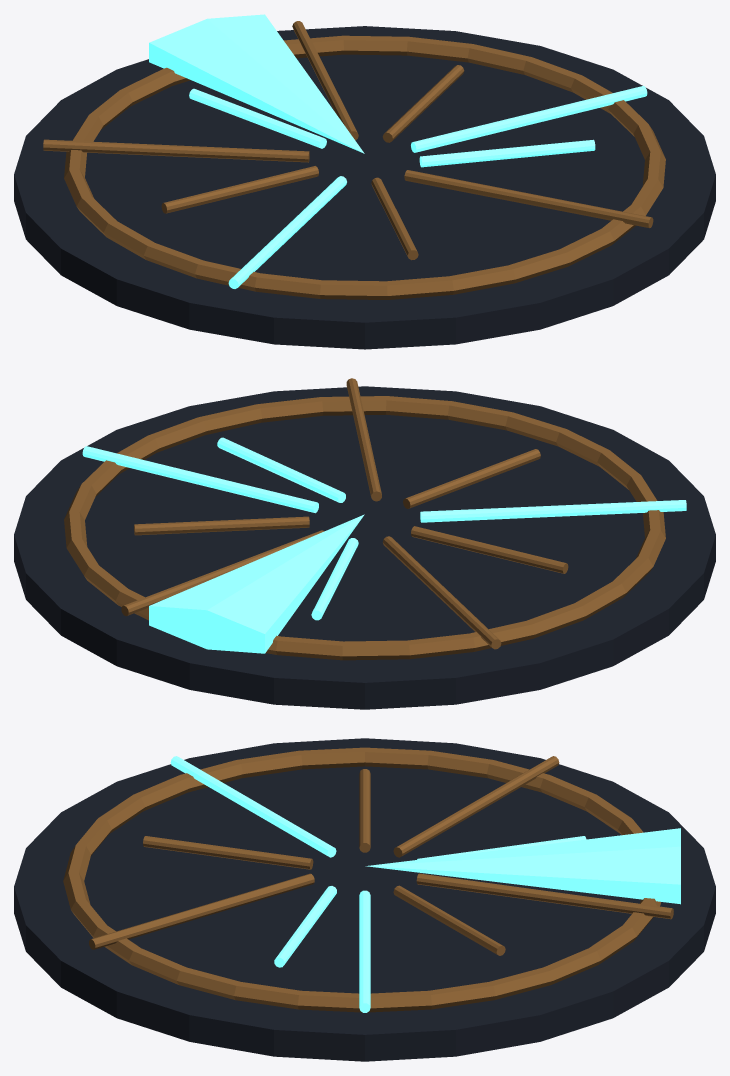
File: runtime.glb
The picture shows the model from 3 angles, top to bottom: view 1: azimuth 30°, elevation 25°; view 2: azimuth 150°, elevation 25°; view 3: azimuth 270°, elevation 25°; orthographic projection.
Visible parts, largest first — view 1: aetherion-astronomical-medallion-v07_field_nocol, aetherion-astronomical-medallion-v07_outer_meridian_nocol, aetherion-astronomical-medallion-v07_north_pointer_nocol, aetherion-astronomical-medallion-v07_bearing_04_nocol, aetherion-astronomical-medallion-v07_bearing_08_nocol, aetherion-astronomical-medallion-v07_bearing_00_nocol, aetherion-astronomical-medallion-v07_bearing_09_nocol, aetherion-astronomical-medallion-v07_bearing_05_nocol, aetherion-astronomical-medallion-v07_bearing_06_nocol, aetherion-astronomical-medallion-v07_bearing_03_nocol, aetherion-astronomical-medallion-v07_bearing_02_nocol, aetherion-astronomical-medallion-v07_bearing_01_nocol (+1 smaller); view 2: aetherion-astronomical-medallion-v07_field_nocol, aetherion-astronomical-medallion-v07_outer_meridian_nocol, aetherion-astronomical-medallion-v07_north_pointer_nocol, aetherion-astronomical-medallion-v07_bearing_06_nocol, aetherion-astronomical-medallion-v07_bearing_00_nocol, aetherion-astronomical-medallion-v07_bearing_01_nocol, aetherion-astronomical-medallion-v07_bearing_05_nocol, aetherion-astronomical-medallion-v07_bearing_04_nocol, aetherion-astronomical-medallion-v07_bearing_07_nocol, aetherion-astronomical-medallion-v07_bearing_09_nocol, aetherion-astronomical-medallion-v07_bearing_02_nocol, aetherion-astronomical-medallion-v07_bearing_08_nocol (+1 smaller); view 3: aetherion-astronomical-medallion-v07_field_nocol, aetherion-astronomical-medallion-v07_outer_meridian_nocol, aetherion-astronomical-medallion-v07_north_pointer_nocol, aetherion-astronomical-medallion-v07_bearing_02_nocol, aetherion-astronomical-medallion-v07_bearing_08_nocol, aetherion-astronomical-medallion-v07_bearing_04_nocol, aetherion-astronomical-medallion-v07_bearing_06_nocol, aetherion-astronomical-medallion-v07_bearing_07_nocol, aetherion-astronomical-medallion-v07_bearing_00_nocol, aetherion-astronomical-medallion-v07_bearing_01_nocol, aetherion-astronomical-medallion-v07_bearing_09_nocol, aetherion-astronomical-medallion-v07_bearing_05_nocol (+1 smaller).
Boxes of the visible parts, bbox=[...] form: aetherion-astronomical-medallion-v07_field_nocol: bbox=[14, 26, 715, 349]; aetherion-astronomical-medallion-v07_outer_meridian_nocol: bbox=[64, 35, 665, 299]; aetherion-astronomical-medallion-v07_north_pointer_nocol: bbox=[149, 14, 364, 153]; aetherion-astronomical-medallion-v07_bearing_04_nocol: bbox=[43, 139, 309, 162]; aetherion-astronomical-medallion-v07_bearing_08_nocol: bbox=[404, 170, 653, 228]; aetherion-astronomical-medallion-v07_bearing_00_nocol: bbox=[411, 85, 647, 152]; aetherion-astronomical-medallion-v07_bearing_09_nocol: bbox=[419, 139, 595, 167]; aetherion-astronomical-medallion-v07_bearing_05_nocol: bbox=[161, 166, 318, 213]; aetherion-astronomical-medallion-v07_bearing_06_nocol: bbox=[228, 176, 346, 288]; aetherion-astronomical-medallion-v07_bearing_03_nocol: bbox=[189, 88, 326, 148]; aetherion-astronomical-medallion-v07_bearing_02_nocol: bbox=[292, 21, 358, 140]; aetherion-astronomical-medallion-v07_bearing_01_nocol: bbox=[382, 65, 464, 142]; aetherion-astronomical-medallion-v07_field_nocol: bbox=[14, 386, 715, 709]; aetherion-astronomical-medallion-v07_outer_meridian_nocol: bbox=[64, 396, 665, 660]; aetherion-astronomical-medallion-v07_north_pointer_nocol: bbox=[149, 514, 364, 653]; aetherion-astronomical-medallion-v07_bearing_06_nocol: bbox=[420, 500, 686, 522]; aetherion-astronomical-medallion-v07_bearing_00_nocol: bbox=[82, 446, 318, 513]; aetherion-astronomical-medallion-v07_bearing_01_nocol: bbox=[134, 516, 309, 535]; aetherion-astronomical-medallion-v07_bearing_05_nocol: bbox=[411, 526, 568, 573]; aetherion-astronomical-medallion-v07_bearing_04_nocol: bbox=[382, 536, 501, 649]; aetherion-astronomical-medallion-v07_bearing_07_nocol: bbox=[403, 449, 540, 508]; aetherion-astronomical-medallion-v07_bearing_09_nocol: bbox=[217, 437, 345, 502]; aetherion-astronomical-medallion-v07_bearing_02_nocol: bbox=[121, 530, 324, 616]; aetherion-astronomical-medallion-v07_bearing_08_nocol: bbox=[346, 378, 381, 501]; aetherion-astronomical-medallion-v07_field_nocol: bbox=[14, 738, 715, 1061]; aetherion-astronomical-medallion-v07_outer_meridian_nocol: bbox=[63, 747, 660, 1012]; aetherion-astronomical-medallion-v07_north_pointer_nocol: bbox=[365, 828, 680, 904]; aetherion-astronomical-medallion-v07_bearing_02_nocol: bbox=[416, 873, 673, 919]; aetherion-astronomical-medallion-v07_bearing_08_nocol: bbox=[89, 873, 314, 949]; aetherion-astronomical-medallion-v07_bearing_04_nocol: bbox=[393, 756, 559, 857]; aetherion-astronomical-medallion-v07_bearing_06_nocol: bbox=[170, 756, 336, 857]; aetherion-astronomical-medallion-v07_bearing_07_nocol: bbox=[143, 836, 313, 869]; aetherion-astronomical-medallion-v07_bearing_00_nocol: bbox=[359, 890, 370, 1012]; aetherion-astronomical-medallion-v07_bearing_01_nocol: bbox=[393, 885, 505, 955]; aetherion-astronomical-medallion-v07_bearing_09_nocol: bbox=[274, 886, 336, 967]; aetherion-astronomical-medallion-v07_bearing_05_nocol: bbox=[359, 769, 370, 852].
Size of the model in its own units: 9.36 by 0.9827 by 9.36.
